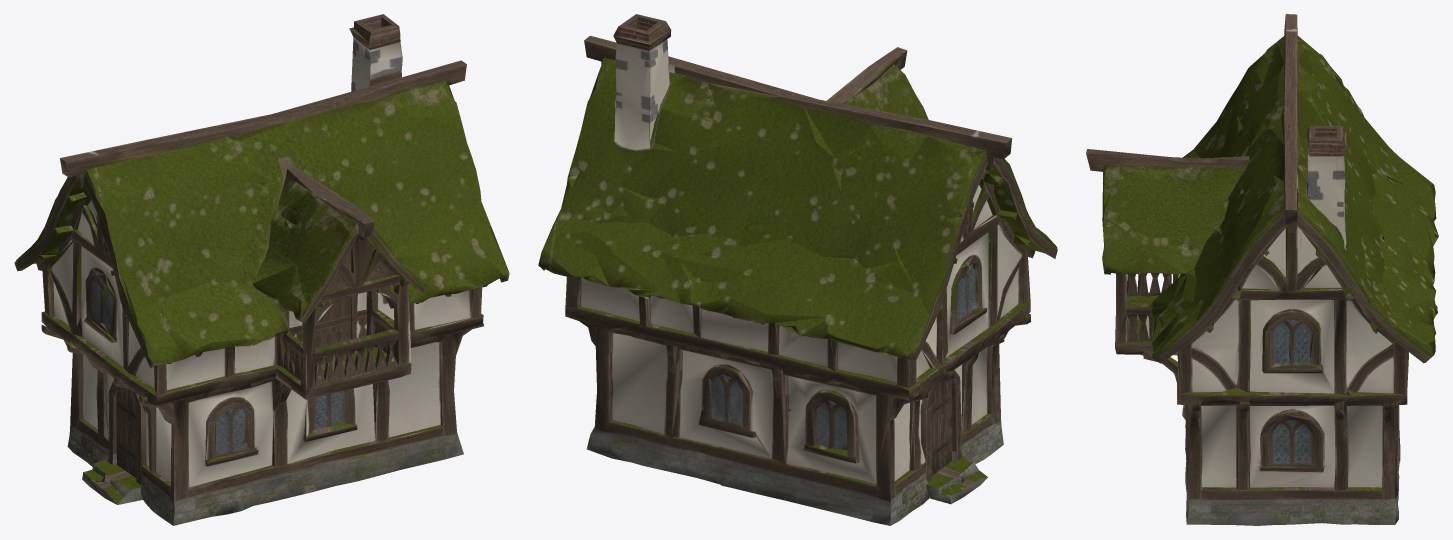
Rendered from CasaEldoria01-lod1.glb.
The picture shows the model from 3 angles, left to right: view 1: azimuth 30°, elevation 25°; view 2: azimuth 150°, elevation 25°; view 3: azimuth 270°, elevation 25°; orthographic projection. The views are drawn at different scales.
Parts seen in each view (by area): view 1: CasaEldoria01_LOD1; view 2: CasaEldoria01_LOD1; view 3: CasaEldoria01_LOD1.
Part boxes in pixels (x1,y1,x2,y2): CasaEldoria01_LOD1: [14, 14, 509, 525]; CasaEldoria01_LOD1: [538, 14, 1057, 525]; CasaEldoria01_LOD1: [1086, 14, 1438, 525].
Size of the model in its own units: 1.9 by 1.74 by 1.45.
1 material, 1 textured.
